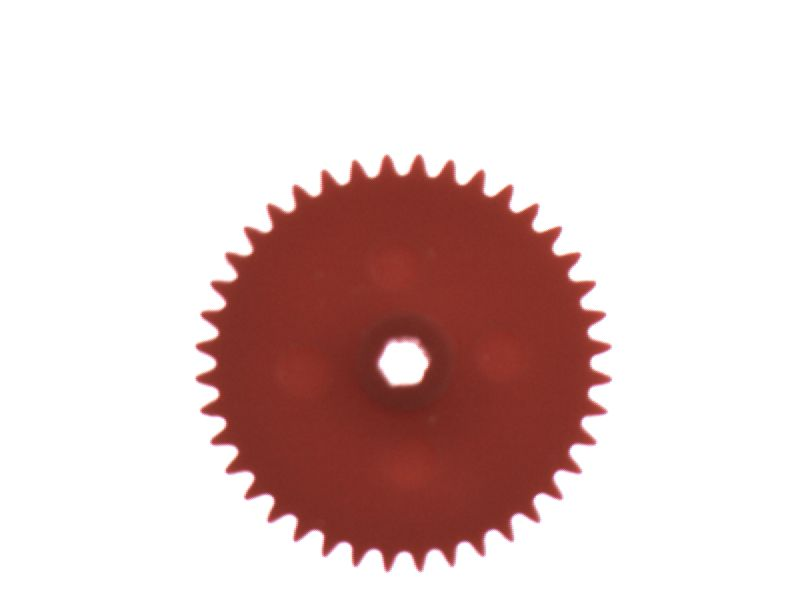good_product: (182, 142, 630, 584)
